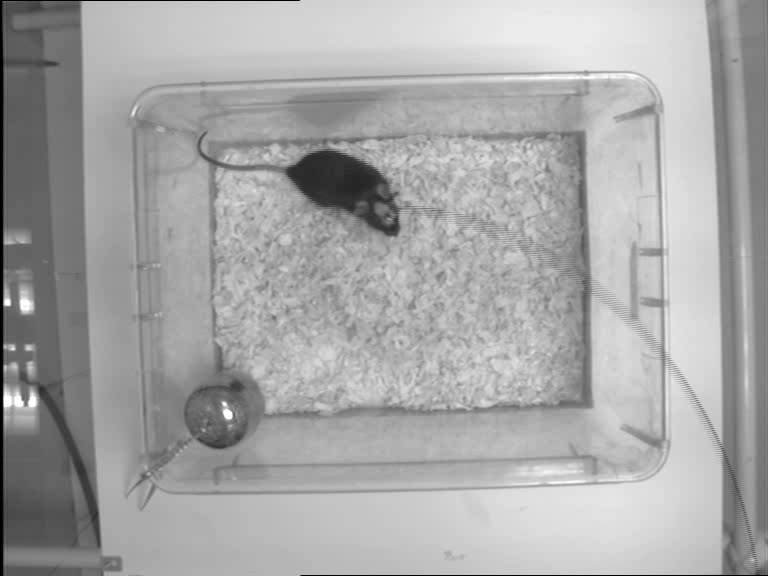mice: (197, 128, 401, 236)
